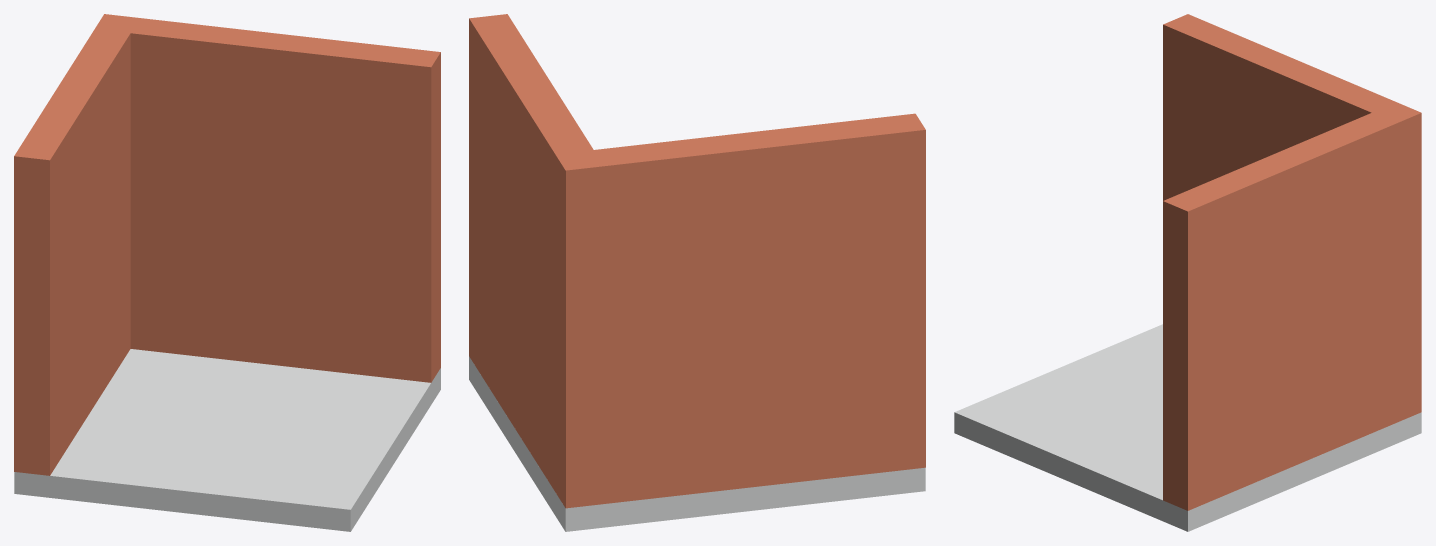
The model's file is duvar 1.1.1.fbx.
3 renders of one model, left to right at view 1: azimuth 30°, elevation 25°; view 2: azimuth 150°, elevation 25°; view 3: azimuth 270°, elevation 25°, orthographic. The views are drawn at different scales.
Visible parts, largest first — view 1: pCube6; view 2: pCube6; view 3: pCube6.
Part boxes in pixels (x1,y1,x2,y2): pCube6: (14,14,440,531); pCube6: (469,14,925,531); pCube6: (954,14,1421,531).
Bounding box in the file's own units: 1796 × 1358 × 1795.
